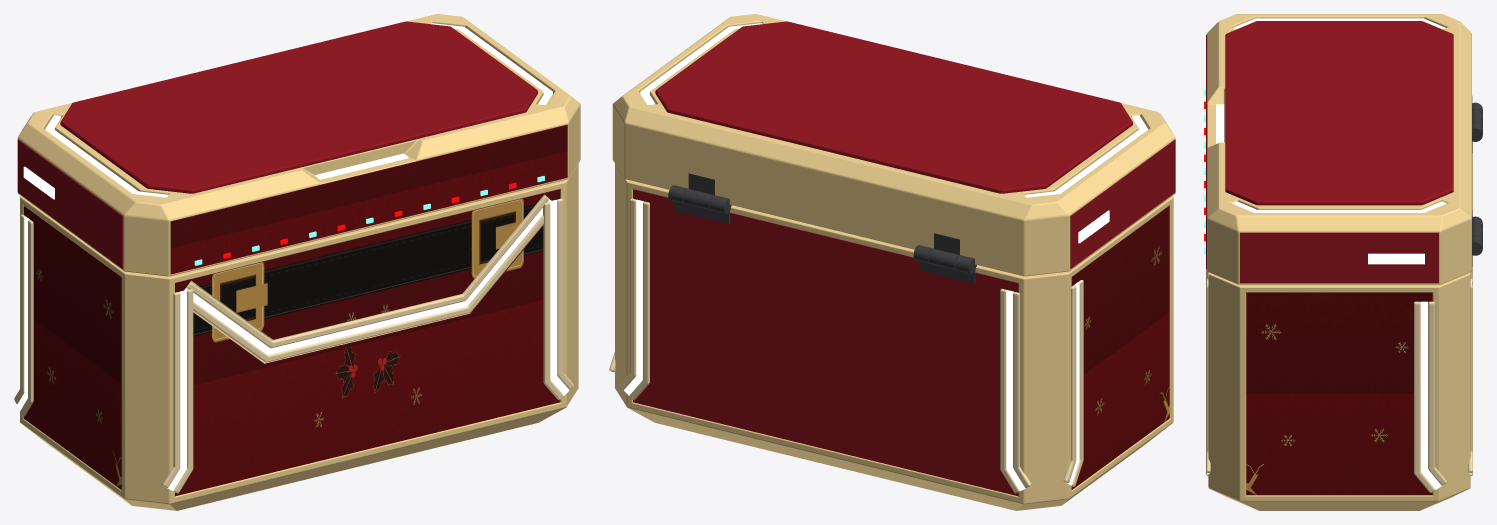
Rendered from santa.glb.
3 renders of one model, left to right at view 1: azimuth 30°, elevation 25°; view 2: azimuth 150°, elevation 25°; view 3: azimuth 270°, elevation 25°, orthographic. The views are drawn at different scales.
Visible parts, largest first — view 1: PlateFB, LidTopPanel, BodyCore, LidBand, LidFrontPlate, PlateSide, LidSidePlate, Rail_5, Rail_4, LedPath_3, Rail_16, LedPath_15 (+9 smaller); view 2: PlateFB.001, LidTopPanel, LidBand, BodyCore, PlateSide, LidSidePlate, Rail_10, Rail_20, LedPath_9, LedPath_18, Rail_11, Rail_19 (+5 smaller); view 3: LidTopPanel, PlateSide.001, BodyCore, LidBand, LidSidePlate.001, LedPath_21, Rail_22, Rail_23, LedPath_27, LedPath_30, LedPath_26, Rail_17 (+2 smaller).
Boxes of the visible parts, x1,y1,x2,y2 form: PlateFB: (175, 189, 560, 496); LidTopPanel: (60, 21, 537, 193); BodyCore: (20, 163, 578, 510); LidBand: (17, 14, 580, 276); LidFrontPlate: (170, 125, 567, 274); PlateSide: (23, 206, 121, 489); LidSidePlate: (17, 139, 122, 268); Rail_5: (186, 195, 548, 348); Rail_4: (193, 215, 543, 362); LedPath_3: (184, 199, 550, 354); Rail_16: (543, 201, 563, 400); LedPath_15: (549, 199, 569, 395); PlateFB.001: (633, 189, 1018, 496); LidTopPanel: (655, 21, 1132, 193); LidBand: (612, 14, 1175, 276); BodyCore: (615, 164, 1173, 510); PlateSide: (1071, 205, 1169, 489); LidSidePlate: (1070, 139, 1175, 268); Rail_10: (1000, 288, 1019, 493); Rail_20: (629, 201, 649, 400); LedPath_9: (1006, 290, 1025, 491); LedPath_18: (624, 199, 643, 395); Rail_11: (1013, 292, 1031, 487); Rail_19: (619, 198, 636, 389); LidTopPanel: (1225, 21, 1453, 205); PlateSide.001: (1246, 292, 1432, 495); BodyCore: (1208, 272, 1470, 510); LidBand: (1207, 14, 1471, 284); LidSidePlate.001: (1240, 232, 1438, 283); LedPath_21: (1420, 301, 1441, 489); Rail_22: (1414, 301, 1435, 493); Rail_23: (1428, 301, 1446, 485); LedPath_27: (1232, 201, 1446, 212); LedPath_30: (1368, 253, 1424, 264); LedPath_26: (1233, 18, 1445, 29); Rail_17: (1206, 284, 1210, 473).
Bounding box in the file's own units: 1.78 × 1.17 × 0.978.
12 materials, 3 textured.
